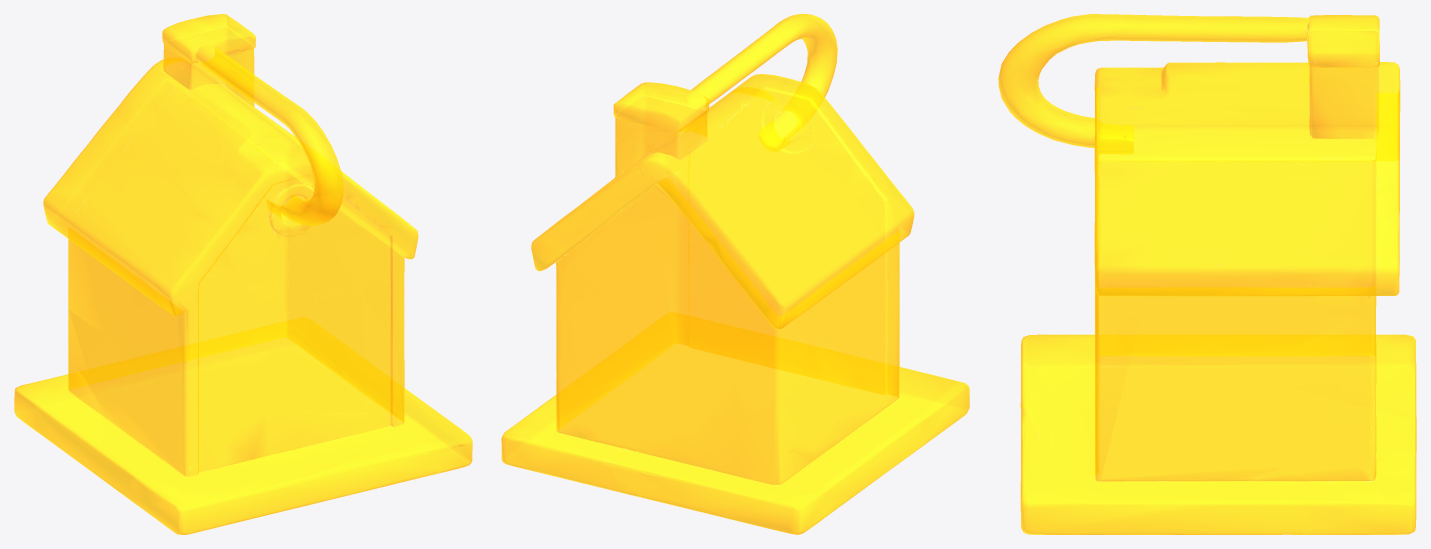
Rendered from rent.glb.
3 renders of one model, left to right at view 1: azimuth 30°, elevation 25°; view 2: azimuth 150°, elevation 25°; view 3: azimuth 270°, elevation 25°, orthographic. The views are drawn at different scales.
Visible parts, largest first — view 1: model; view 2: model; view 3: model.
Boxes of the visible parts, x1=… form: model: x1=14, y1=14, x2=472, y2=534; model: x1=501, y1=14, x2=969, y2=534; model: x1=998, y1=14, x2=1416, y2=534.
Bounding box in the file's own units: 1.43 × 1.71 × 1.49.
